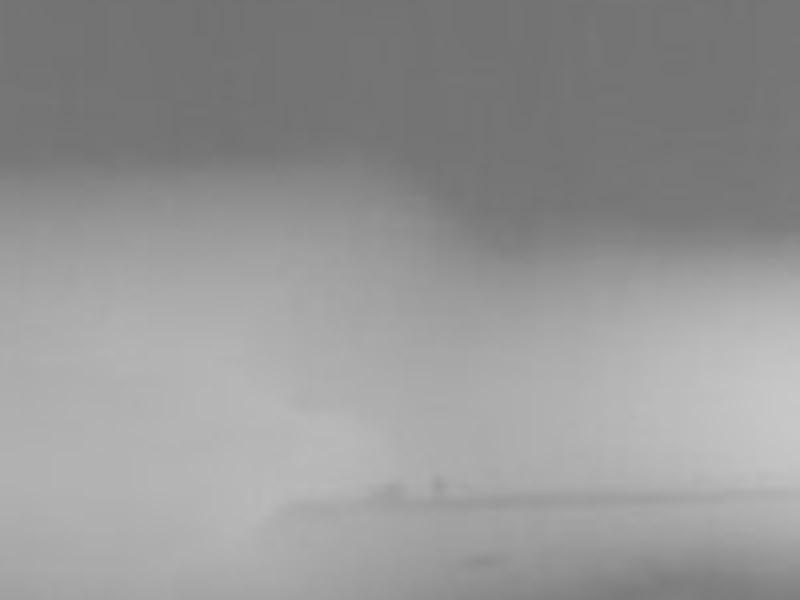defect: (372, 476, 409, 509), (431, 467, 451, 497)
